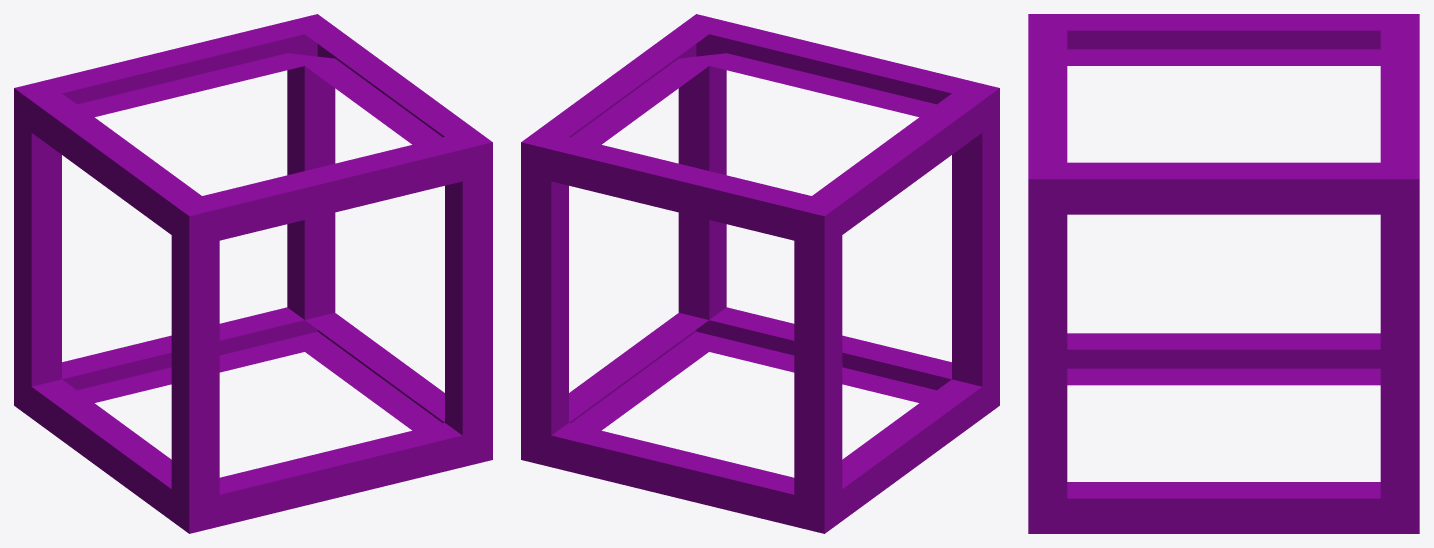
File: flythroughs.004.Xud.glb
3 views of the same model, side by side, from view 1: azimuth 30°, elevation 25°; view 2: azimuth 150°, elevation 25°; view 3: azimuth 270°, elevation 25° (orthographic). The views are drawn at different scales.
Parts seen in each view (by area): view 1: Cube-Xud; view 2: Cube-Xud; view 3: Cube-Xud.
Boxes of the visible parts, <box> form: Cube-Xud: <box>14,14,492,533</box>; Cube-Xud: <box>521,14,999,533</box>; Cube-Xud: <box>1028,14,1419,533</box>.
Size of the model in its own units: 2 by 2 by 2.
1 material, 1 textured.
